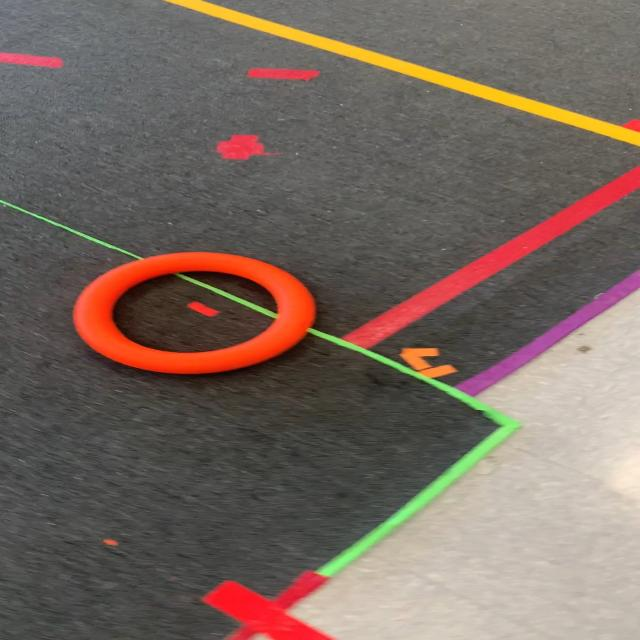notes: (72, 250, 314, 381)
